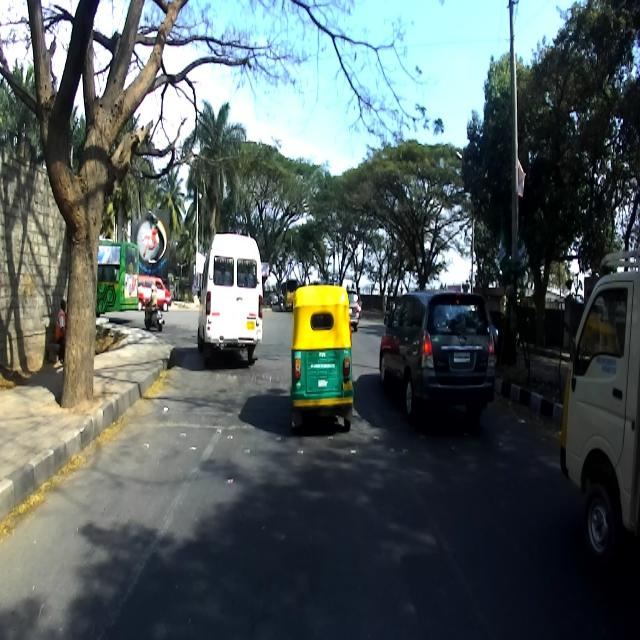Car_Toyota: (378, 290, 495, 421)
autorickshaw: (290, 284, 352, 432)
mini-bus: (196, 224, 265, 360)
